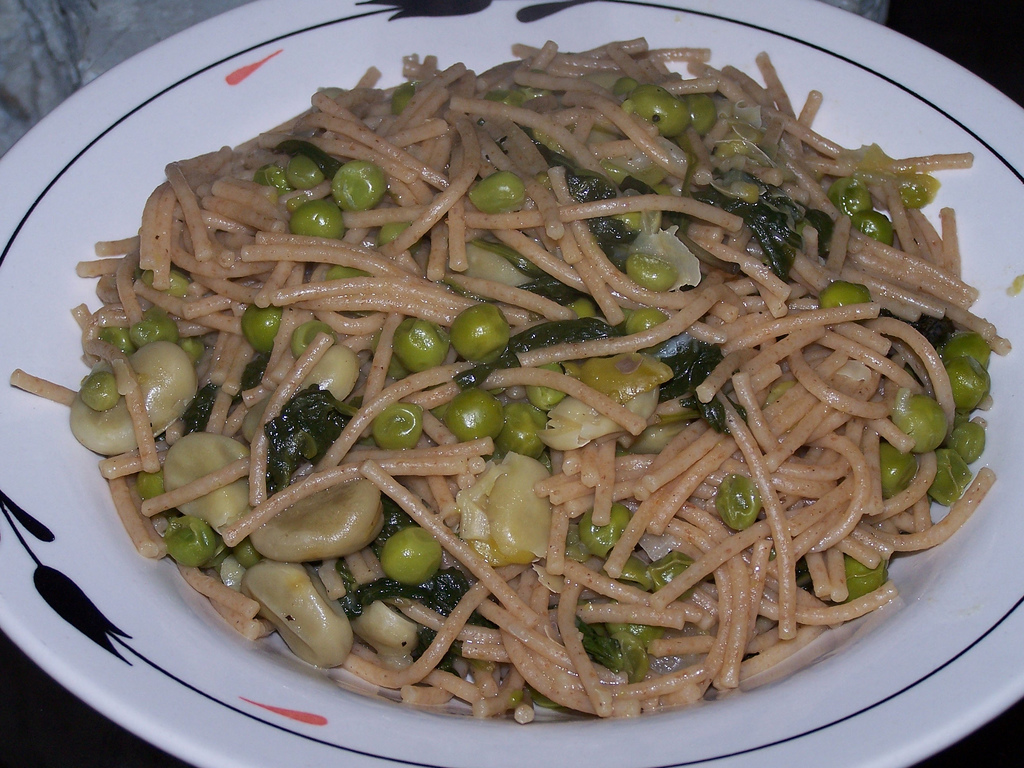boiled peas: (404, 314, 570, 455), (278, 158, 381, 240)
